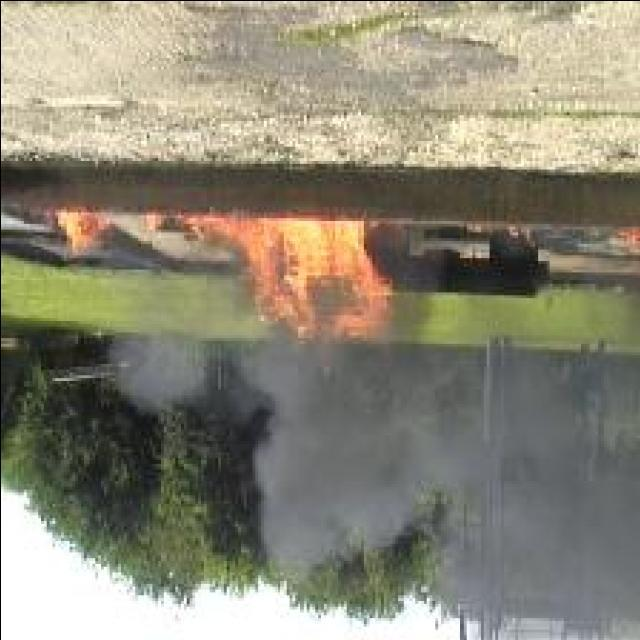Fire: (182, 214, 396, 337), (53, 213, 113, 250)
